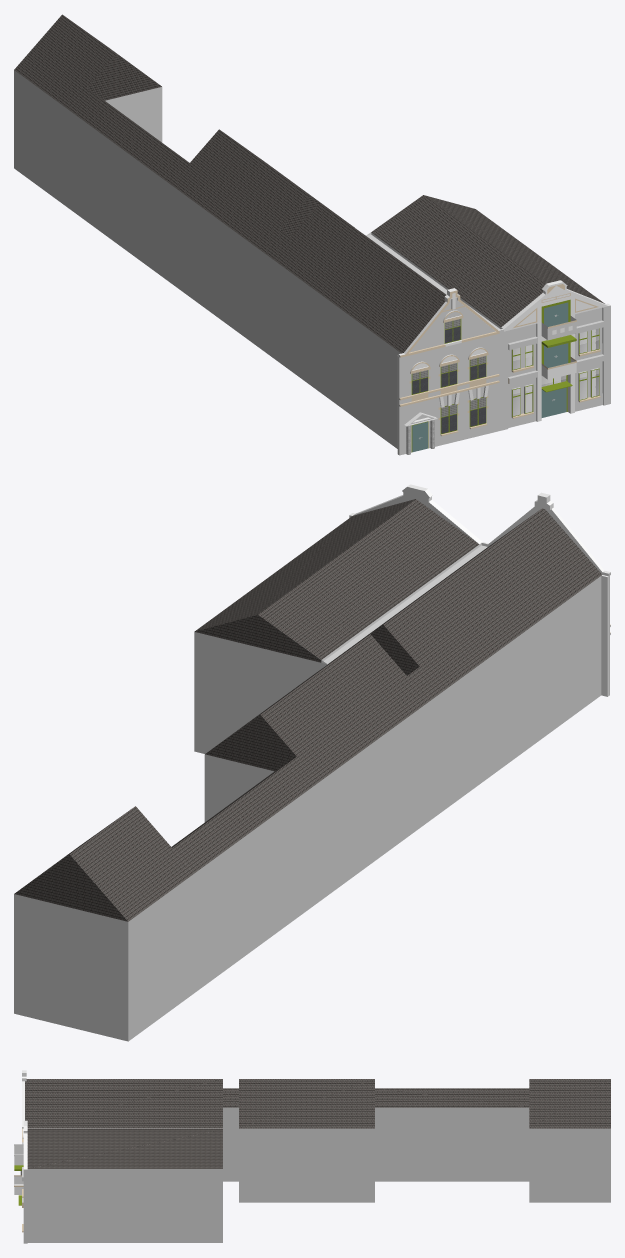
The model's file is museum_kesenian.glb.
3 views of the same model, one above another, from view 1: azimuth 30°, elevation 25°; view 2: azimuth 150°, elevation 25°; view 3: azimuth 270°, elevation 25° (orthographic). The views are drawn at different scales.
Visible parts, largest first — view 1: Object_12, Object_9, Object_11, Object_4, Object_5, Object_6, Object_8, Object_2, Object_10; view 2: Object_12, Object_9, Object_11; view 3: Object_12, Object_9, Object_11.
Boxes of the visible parts, x1=… form: Object_12: x1=14, y1=70, x2=610, y2=455; Object_9: x1=14, y1=14, x2=604, y2=353; Object_11: x1=366, y1=213, x2=610, y2=454; Object_4: x1=399, y1=284, x2=600, y2=435; Object_5: x1=411, y1=299, x2=599, y2=452; Object_6: x1=412, y1=302, x2=568, y2=452; Object_8: x1=513, y1=328, x2=599, y2=416; Object_2: x1=412, y1=326, x2=485, y2=433; Object_10: x1=412, y1=319, x2=485, y2=417; Object_12: x1=14, y1=487, x2=610, y2=1041; Object_9: x1=14, y1=499, x2=601, y2=921; Object_11: x1=285, y1=484, x2=610, y2=696; Object_12: x1=14, y1=1107, x2=610, y2=1243; Object_9: x1=25, y1=1079, x2=610, y2=1168; Object_11: x1=14, y1=1070, x2=27, y2=1194.
Bounding box in the file's own units: 20.25 × 13.9 × 65.8.
12 materials, 5 textured.
